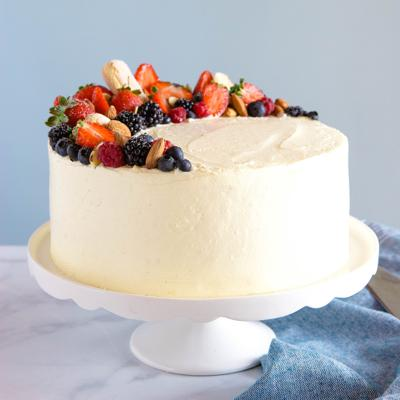cake: (46, 81, 356, 302)
